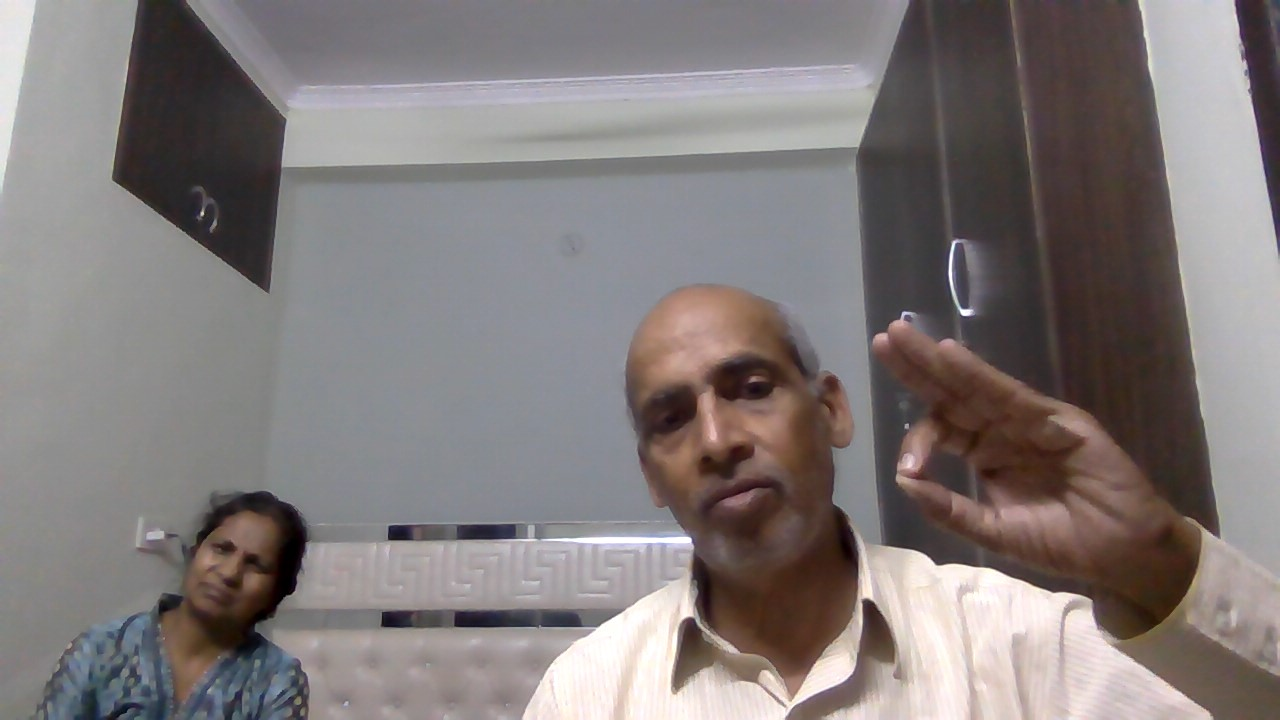Copy: (855, 299, 1200, 616)
